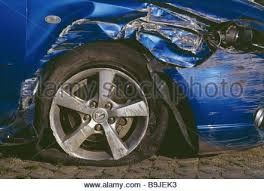Dent: (58, 1, 223, 70)
Scratch: (196, 51, 264, 143), (10, 73, 40, 136)
